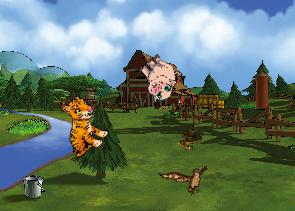eagle: (158, 152, 216, 205)
pig: (130, 49, 186, 105)
tiger: (46, 92, 115, 162)
